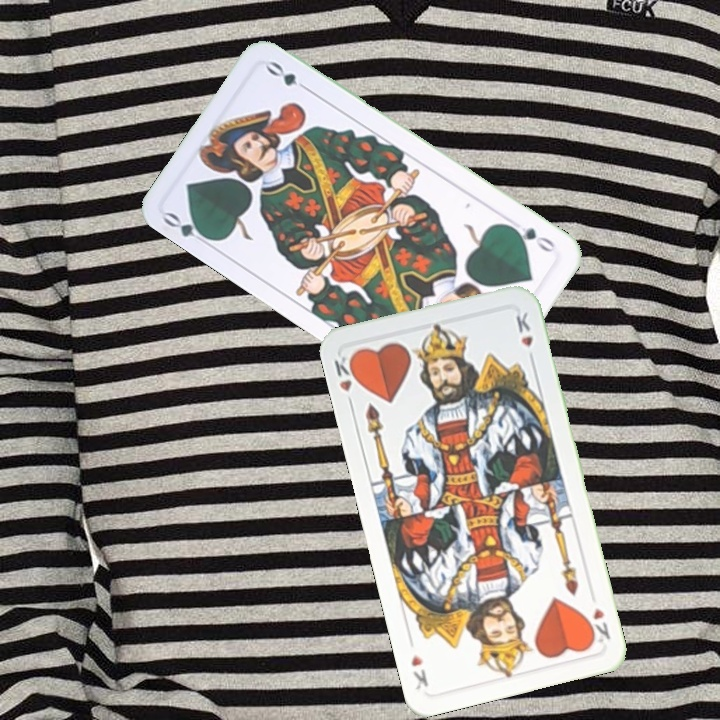GO: (159, 208, 216, 249), (505, 221, 557, 256)
HK: (330, 349, 362, 410), (582, 603, 613, 646)
